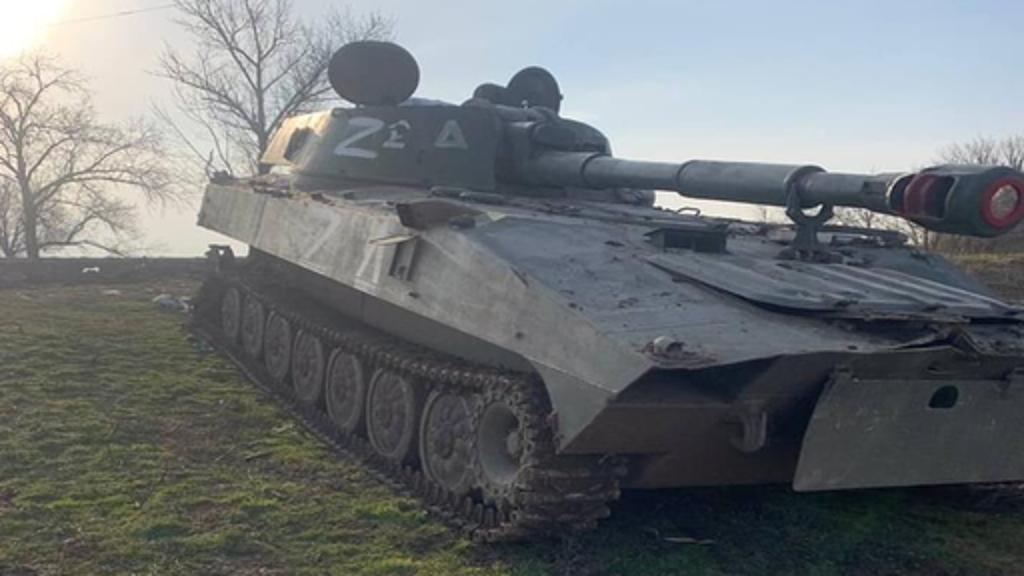ART: (174, 40, 1024, 544)
